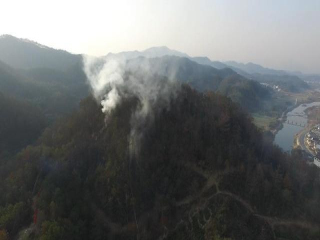smoke: (80, 52, 193, 146)
